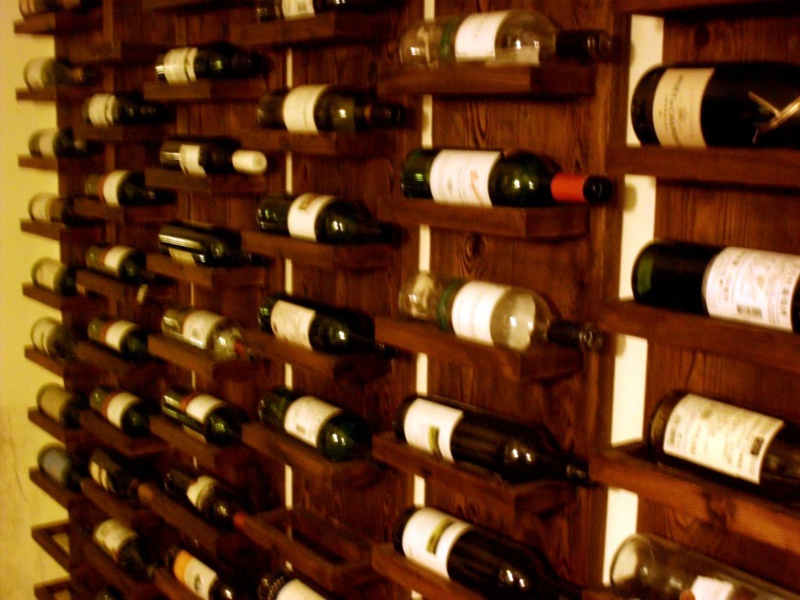wine: (10, 1, 800, 587)
